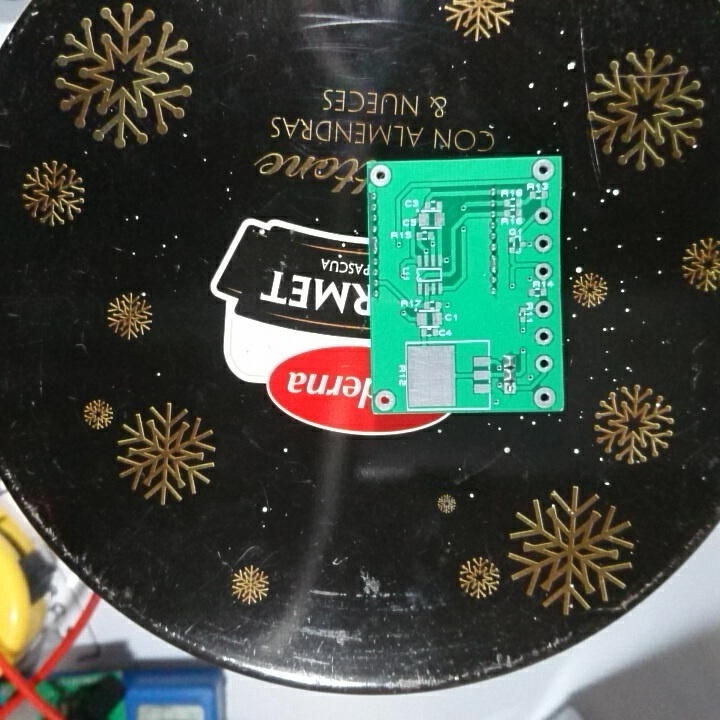F: (370, 386, 399, 415), (531, 382, 556, 412), (367, 161, 394, 187), (530, 157, 558, 182), (533, 350, 557, 378), (531, 298, 556, 322), (534, 326, 558, 350), (533, 260, 555, 282), (533, 206, 554, 229), (534, 232, 554, 255), (503, 380, 519, 397)
P: (370, 234, 385, 258), (488, 252, 502, 275)
